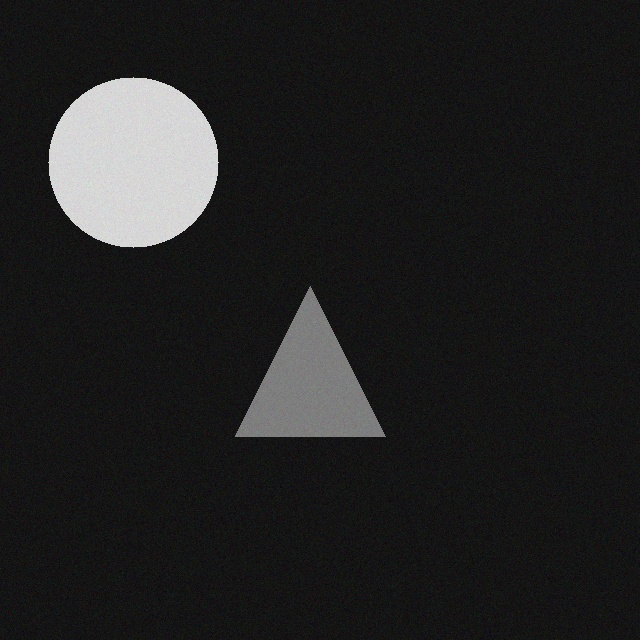circle: (49, 70, 219, 240)
triangle: (236, 279, 386, 429)
